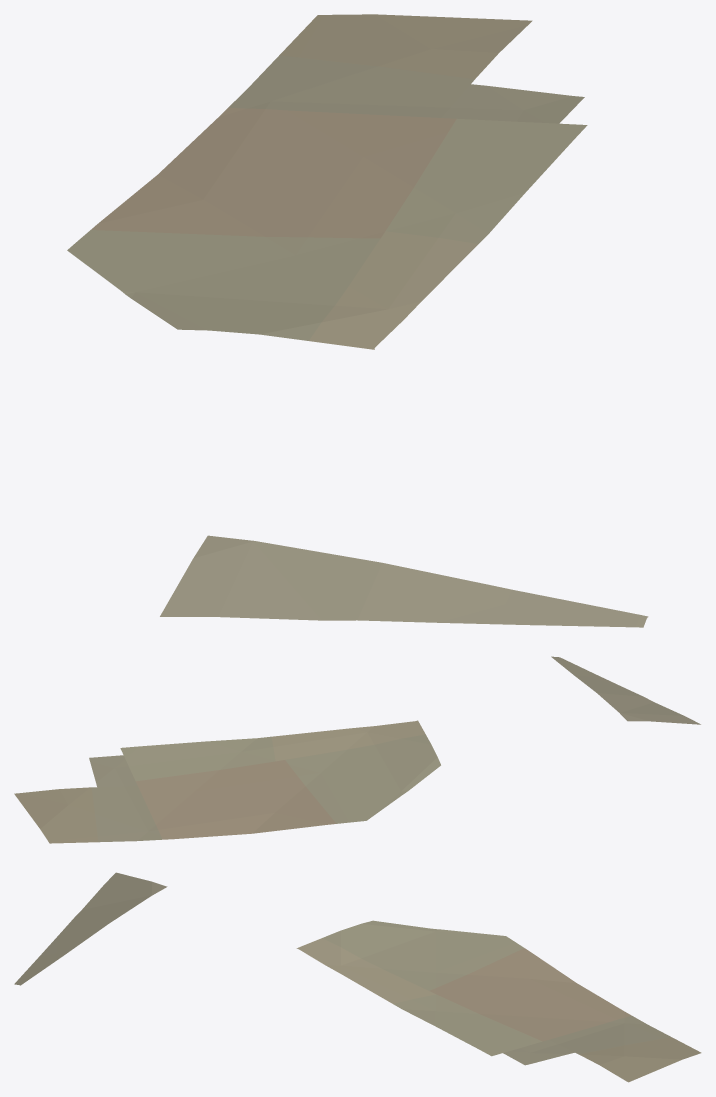
The model's file is farm_-20_-25_soil.glb.
3 views of the same model, one above another, from view 1: azimuth 30°, elevation 25°; view 2: azimuth 150°, elevation 25°; view 3: azimuth 270°, elevation 25° (orthographic). The views are drawn at different scales.
Parts seen in each view (by area): view 1: geometry_0; view 2: geometry_0; view 3: geometry_0.
Boxes of the visible parts, x1,y1,x2,y2 form: geometry_0: (67,14,648,627); geometry_0: (14,656,700,843); geometry_0: (14,872,701,1082).
Bounding box in the file's own units: 437 × 35.52 × 582.
